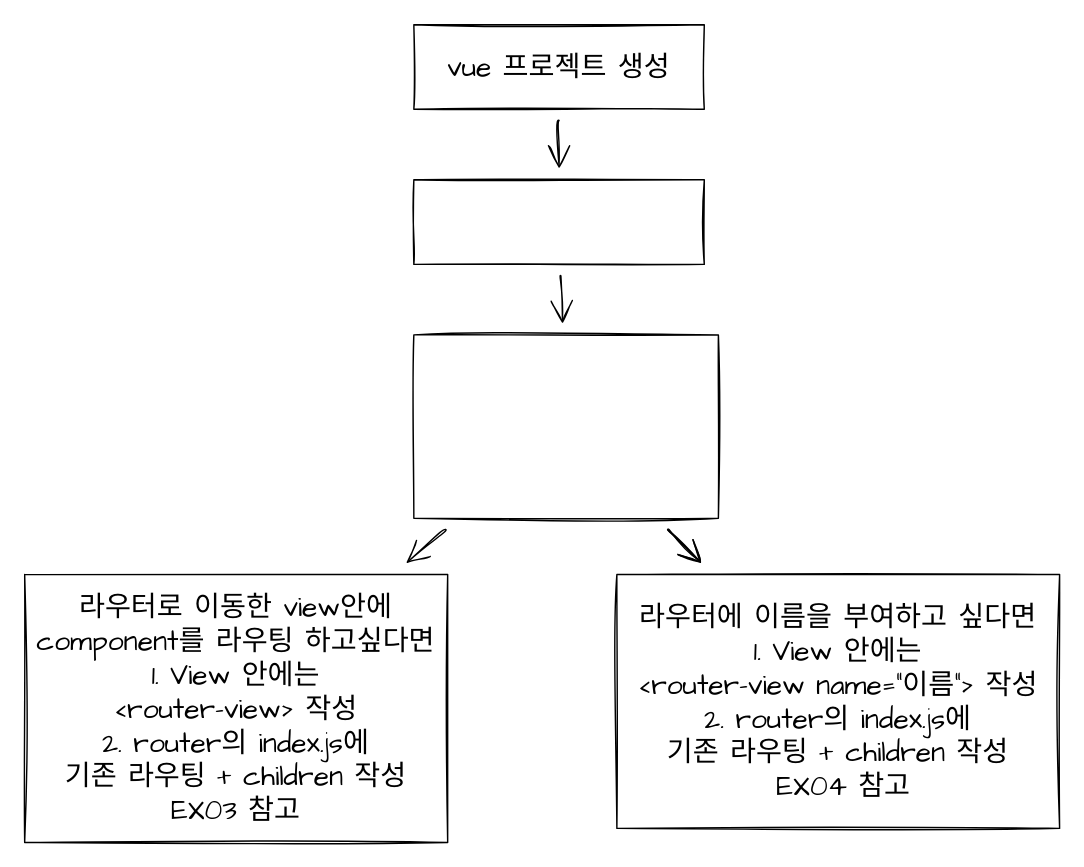
This 1084x867 diagram has some shape labels left out. The centre of each missing label's shape, as x and y in pixels:
router의 index.js route 배열에 생성한 프로젝트를 매핑할 경로(path) + 실제 폴더상의 경로(import) 지정: point 565,425
프로젝트의 name 지정: point 558,221
